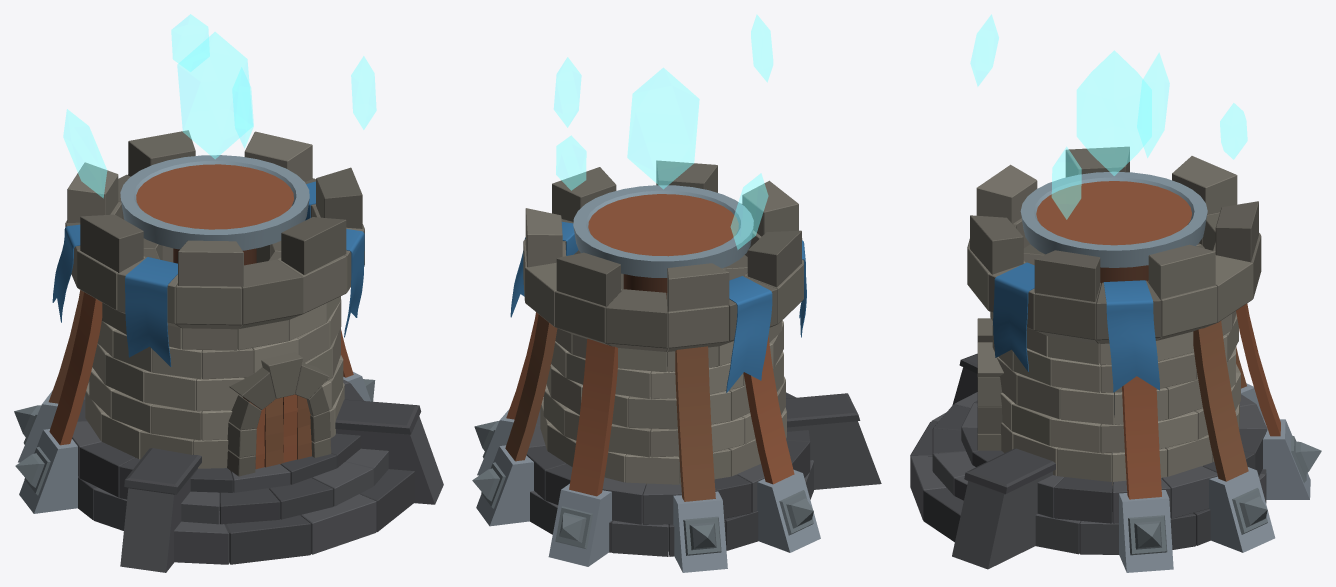
The model's file is Torre1.fbx.
3 views of the same model, side by side, from view 1: azimuth 30°, elevation 25°; view 2: azimuth 150°, elevation 25°; view 3: azimuth 270°, elevation 25° (orthographic). The views are drawn at different scales.
Parts seen in each view (by area): view 1: Cube.030, Cube.028, Cylinder.004, Cube.029, Cube.027, Icosphere, Cube.032, Cube.026, Cube.040, Cube.031, Cube.039, Cube.038 (+14 smaller); view 2: Cube.030, Cylinder.004, Cube.029, Cube.027, Icosphere, Cube.032, Cube.042, Cube.046, Cube.039, Cube.025, Cube.038, Cube.037 (+16 smaller); view 3: Cube.030, Cylinder.004, Cube.027, Cube.029, Cube.031, Icosphere, Cube.028, Cube.039, Cube.038, Plane.007, Cube.044, Cube.025 (+15 smaller).
Boxes of the visible parts, x1=… form: Cube.030: x1=67, y1=130, x2=362, y2=288; Cube.028: x1=174, y1=448, x2=414, y2=564; Cylinder.004: x1=120, y1=155, x2=309, y2=250; Cube.029: x1=65, y1=174, x2=364, y2=329; Cube.027: x1=72, y1=379, x2=363, y2=530; Icosphere: x1=177, y1=32, x2=252, y2=159; Cube.032: x1=120, y1=448, x2=201, y2=572; Cube.026: x1=227, y1=352, x2=331, y2=476; Cube.040: x1=97, y1=299, x2=341, y2=379; Cube.031: x1=335, y1=399, x2=443, y2=504; Cube.039: x1=92, y1=328, x2=340, y2=411; Cube.038: x1=89, y1=355, x2=343, y2=440; Cube.030: x1=525, y1=160, x2=801, y2=311; Cylinder.004: x1=573, y1=185, x2=753, y2=277; Cube.029: x1=523, y1=203, x2=803, y2=353; Cube.027: x1=526, y1=409, x2=813, y2=556; Icosphere: x1=627, y1=67, x2=699, y2=189; Cube.032: x1=785, y1=393, x2=881, y2=489; Cube.042: x1=675, y1=346, x2=715, y2=501; Cube.046: x1=569, y1=338, x2=617, y2=496; Cube.039: x1=546, y1=351, x2=783, y2=429; Cube.025: x1=540, y1=398, x2=786, y2=484; Cube.038: x1=543, y1=376, x2=785, y2=457; Cube.037: x1=548, y1=483, x2=611, y2=566; Cube.030: x1=970, y1=146, x2=1258, y2=301; Cylinder.004: x1=1020, y1=171, x2=1207, y2=267; Cube.027: x1=961, y1=394, x2=1267, y2=554; Cube.029: x1=967, y1=212, x2=1261, y2=343; Cube.031: x1=952, y1=448, x2=1055, y2=569; Icosphere: x1=1076, y1=50, x2=1151, y2=175; Cube.028: x1=910, y1=392, x2=977, y2=542; Cube.039: x1=996, y1=347, x2=1235, y2=424; Cube.038: x1=1000, y1=364, x2=1240, y2=453; Plane.007: x1=1103, y1=280, x2=1159, y2=392; Cube.044: x1=1193, y1=321, x2=1248, y2=481; Cube.025: x1=1001, y1=403, x2=1239, y2=485.
Bounding box in the file's own units: 705 × 878 × 712.
